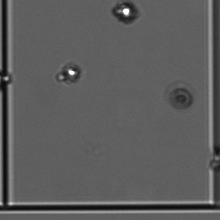Dead Cell: (166, 80, 202, 118)
Living Cell: (104, 1, 144, 30), (56, 57, 89, 92), (1, 70, 13, 89)
